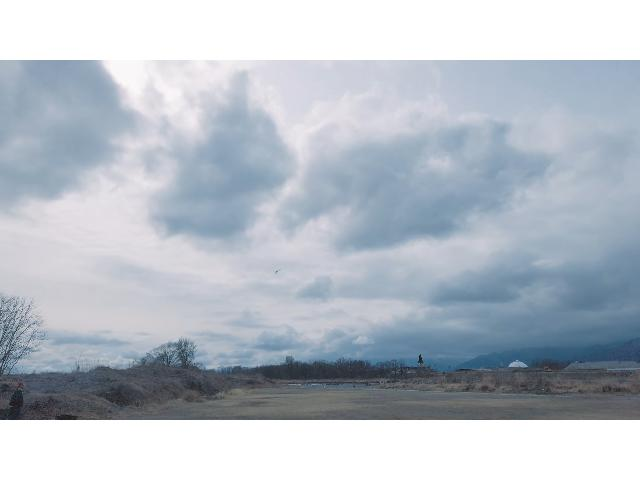Anti-Drone: (273, 268, 283, 275)
